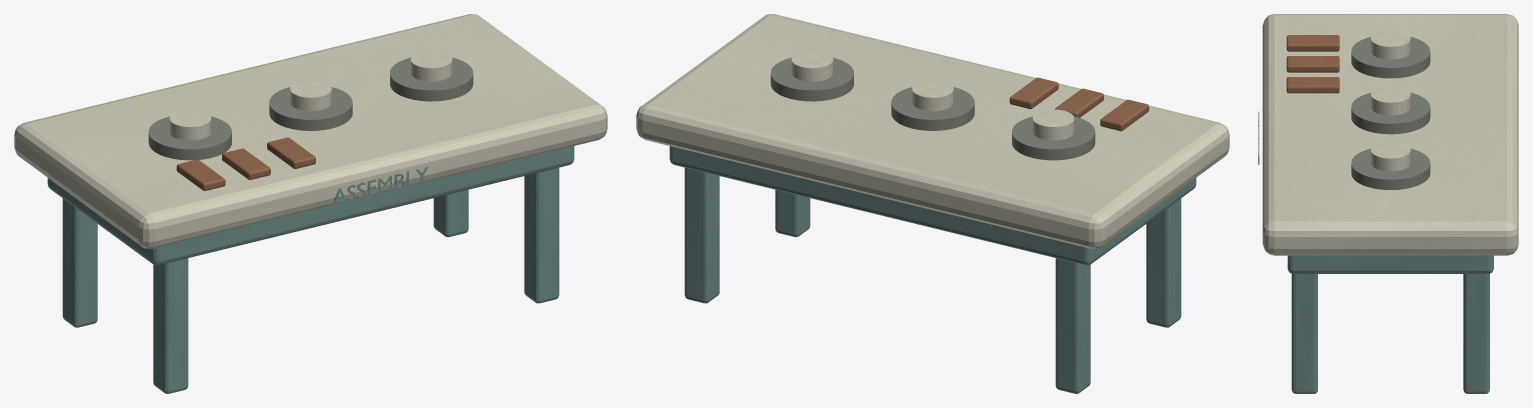
Rendered from Assembly_Table.glb.
3 views of the same model, side by side, from view 1: azimuth 30°, elevation 25°; view 2: azimuth 150°, elevation 25°; view 3: azimuth 270°, elevation 25° (orthographic). The views are drawn at different scales.
Visible parts, largest first — view 1: Assembly_Table; view 2: Assembly_Table; view 3: Assembly_Table.
Boxes of the visible parts, left/top/right/bottom form: Assembly_Table: left=14, top=14, right=607, bottom=393; Assembly_Table: left=636, top=14, right=1229, bottom=393; Assembly_Table: left=1258, top=14, right=1518, bottom=393.
Bounding box in the file's own units: 3.1 × 1.4 × 1.58.
Materials: 4 (3 with a texture image).
